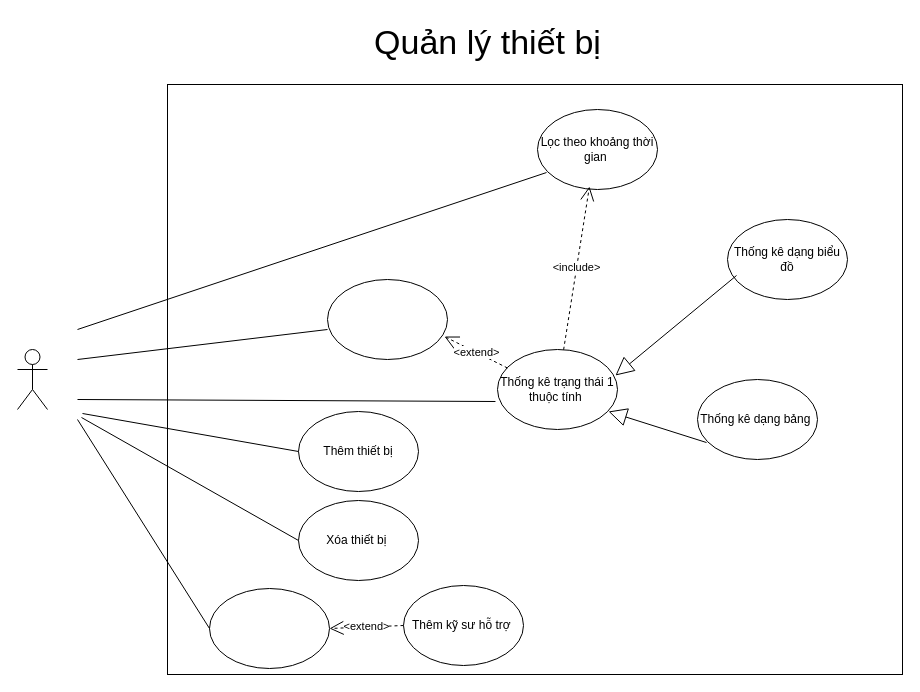
Image size: 920x692. Some labels were removed from this diagram. Each missing label, with the centre of its shape:
Chỉnh sửa thông tin thiết bị: the point at 269,628
Giám sát trạng thái thiết bị: the point at 387,319
User: the point at 32,379
